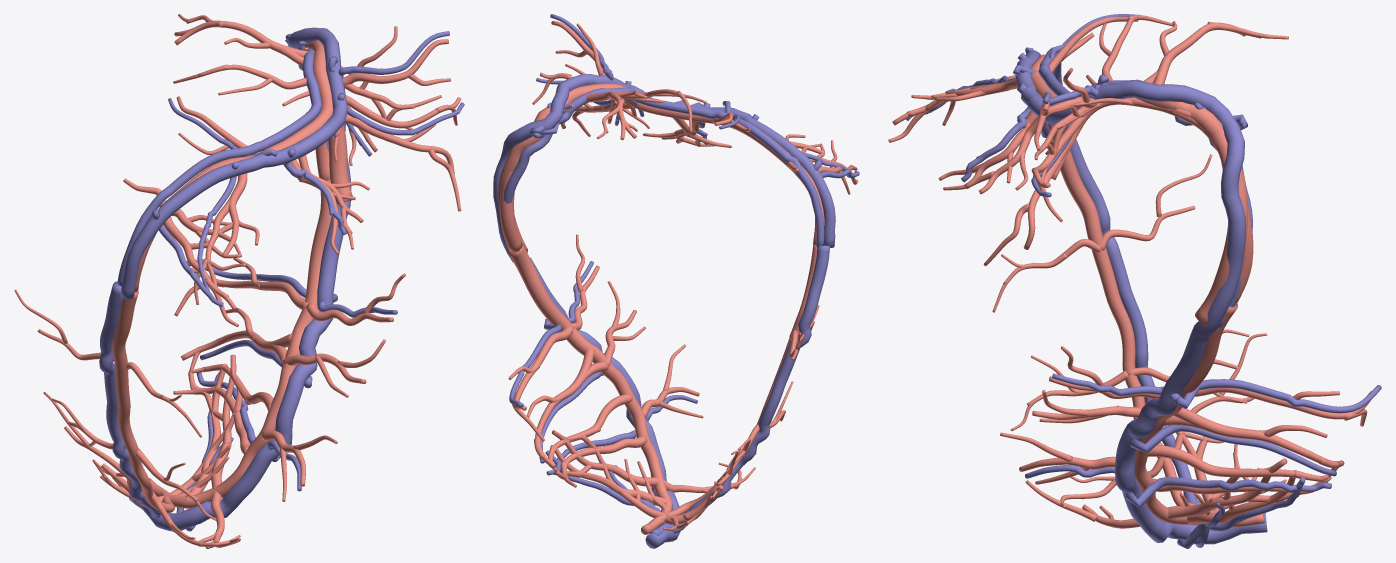
File: vessels_37.glb
The picture shows the model from 3 angles, left to right: view 1: azimuth 30°, elevation 25°; view 2: azimuth 150°, elevation 25°; view 3: azimuth 270°, elevation 25°; orthographic projection. The views are drawn at different scales.
Parts seen in each view (by area): view 1: Renderer Node; view 2: Renderer Node; view 3: Renderer Node.
Boxes of the visible parts, x1,y1,x2,y2 form: Renderer Node: (14, 14, 464, 548); Renderer Node: (493, 14, 859, 548); Renderer Node: (888, 14, 1381, 548).
Size of the model in its own units: 94.18 by 121 by 95.18.
